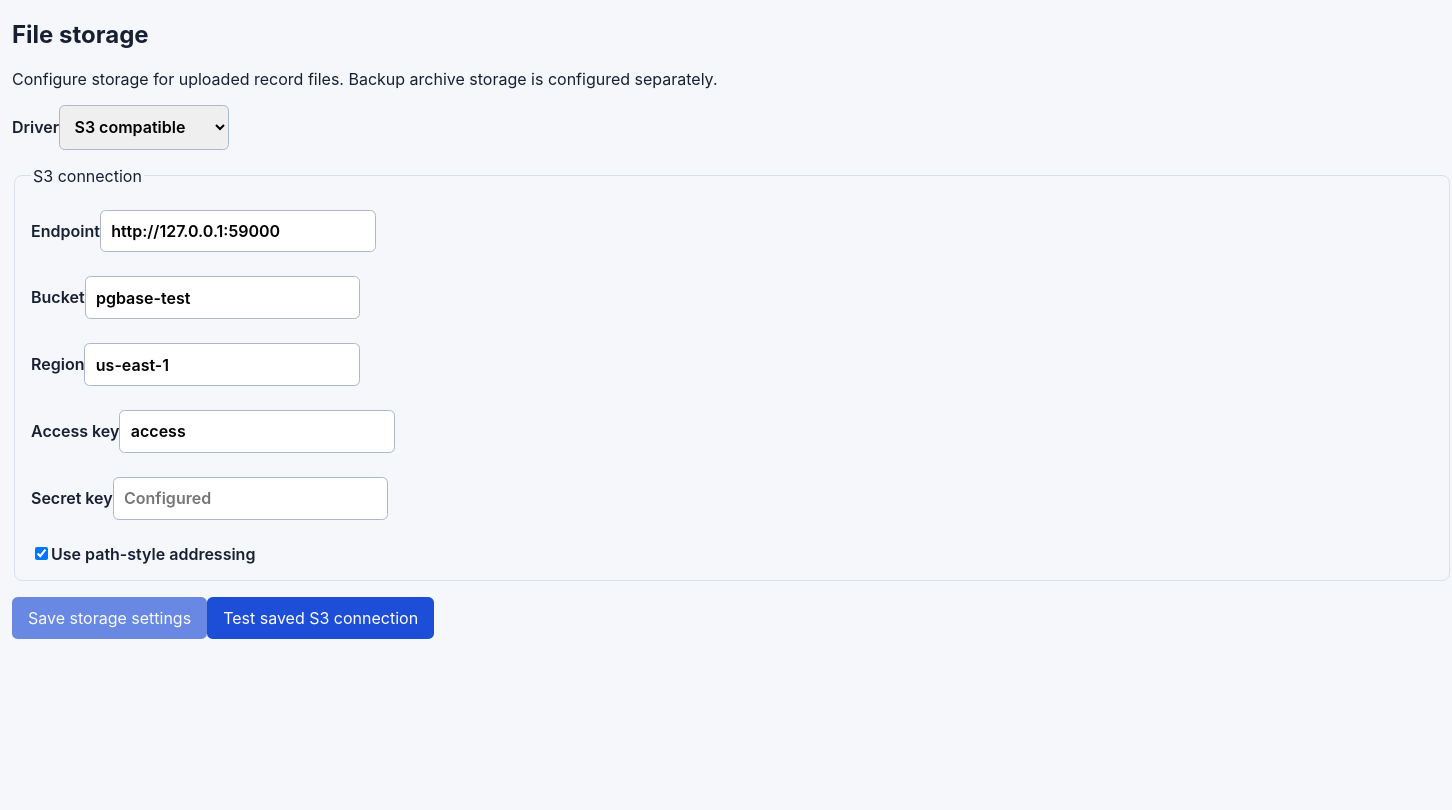
it: file storage settings › preserves an omitted secret, warns on destination change, and tests only saved settings
The image size is (1452, 810).
Expected: the field showing "pgbase-test" is shown, 84,276 -> 360,319
Expected: the dropdown labelled "Driver" is enabled, 59,105 -> 229,150
Replace the text in the field labelled "Access key" with "rotated" at (257, 431), box 119,410 -> 395,453
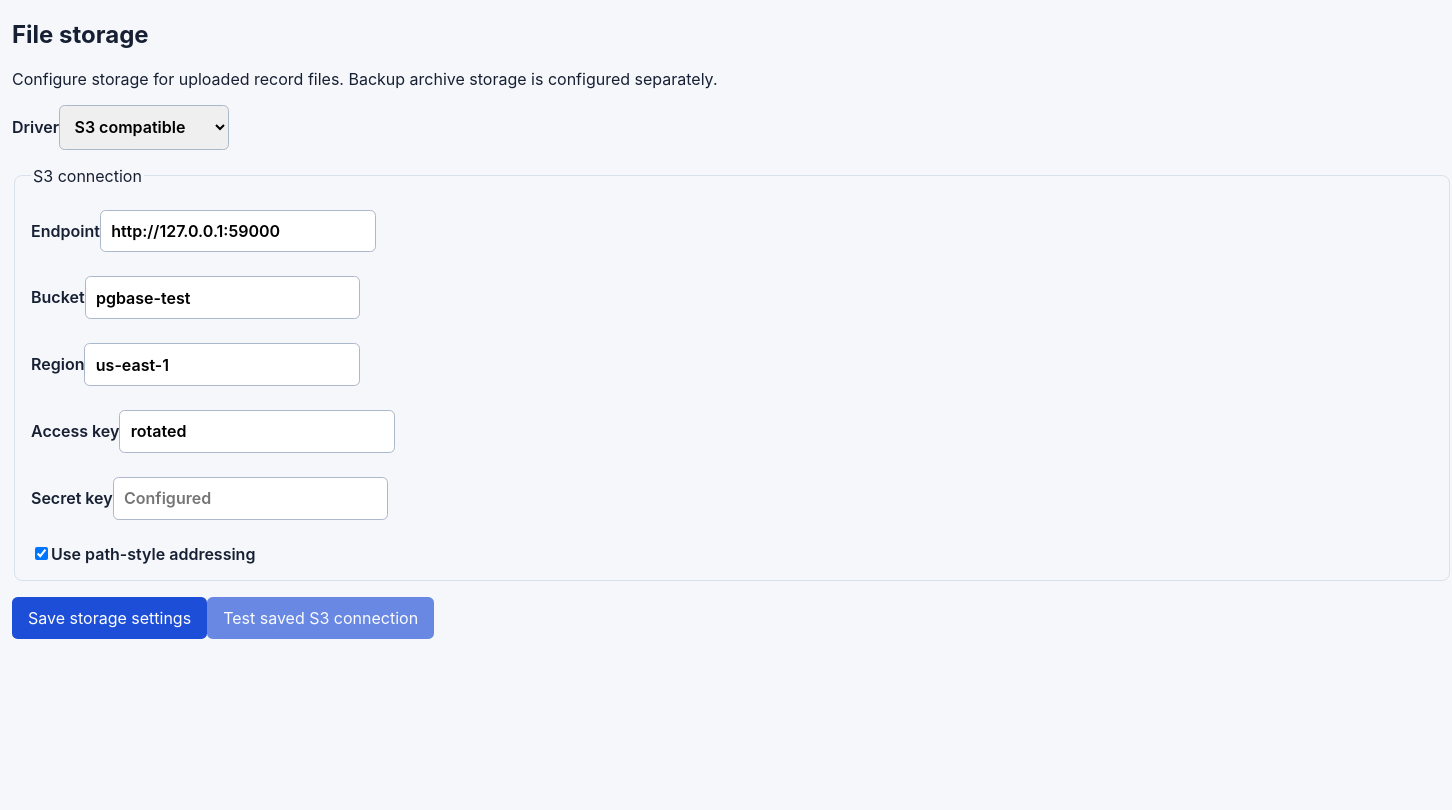
Result: the button "Test saved S3 connection" is disabled at 207,596 -> 434,639
Click the button "Save storage settings" at (110, 618), box 12,596 -> 207,639
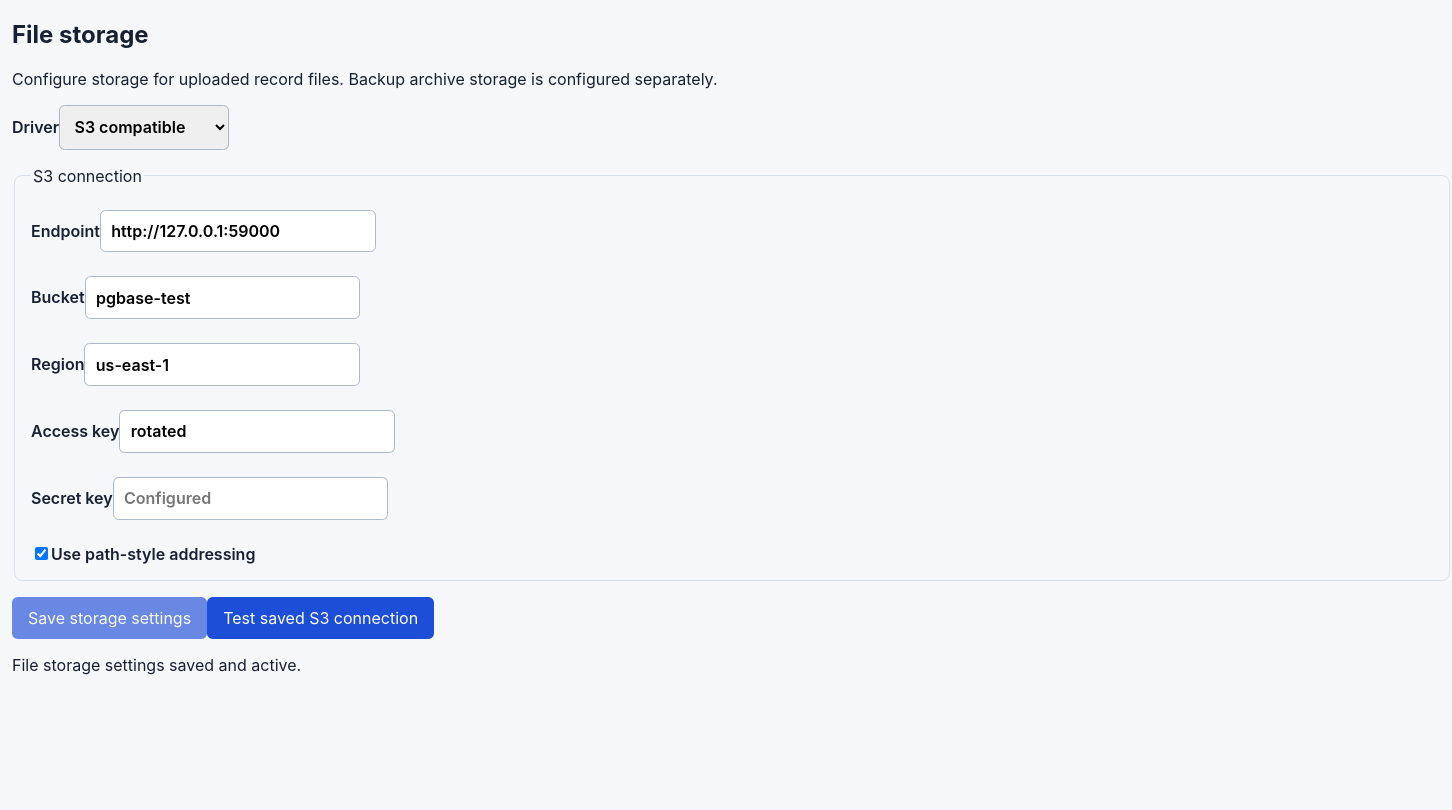
Result: the text "File storage settings saved and active." is shown at 12,655 -> 301,675
Click the button "Test saved S3 connection" at (321, 618), box 207,596 -> 434,639
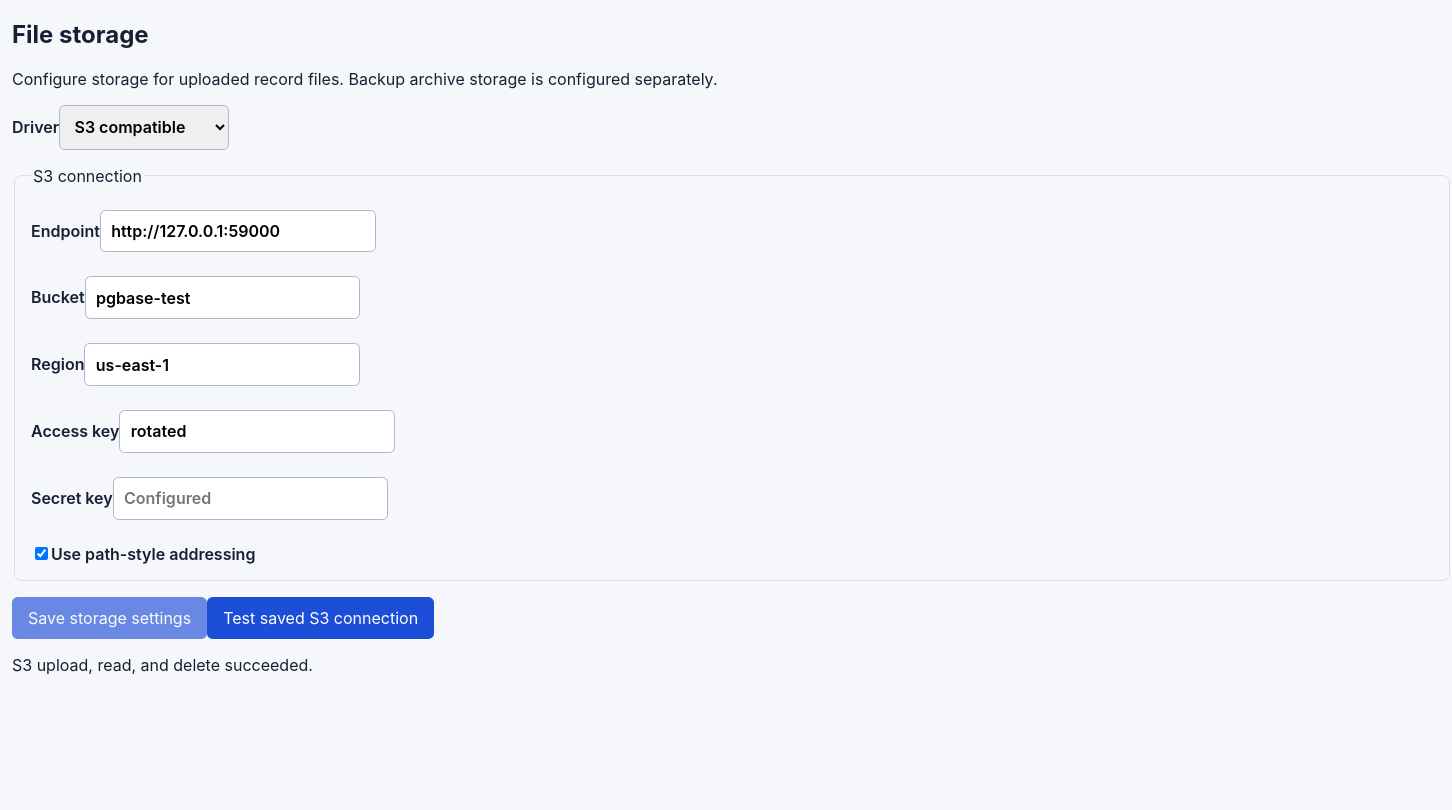
Result: the text "S3 upload, read, and delete succeeded." is shown at 12,655 -> 313,675
